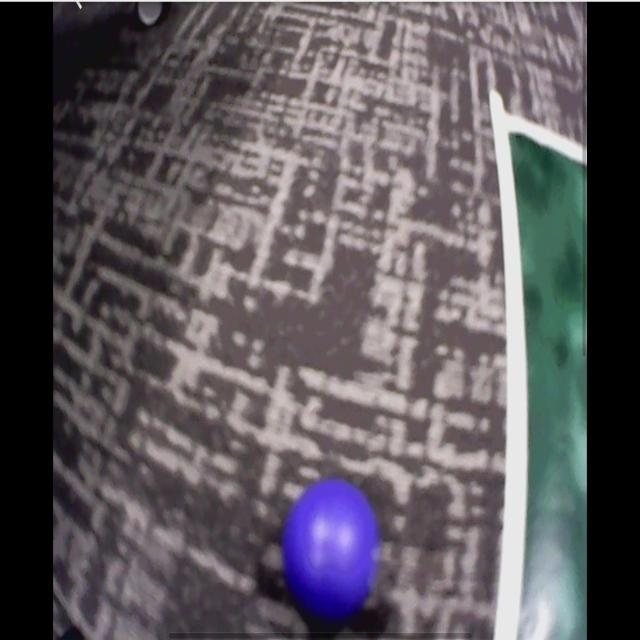ball: (287, 477, 376, 623)
